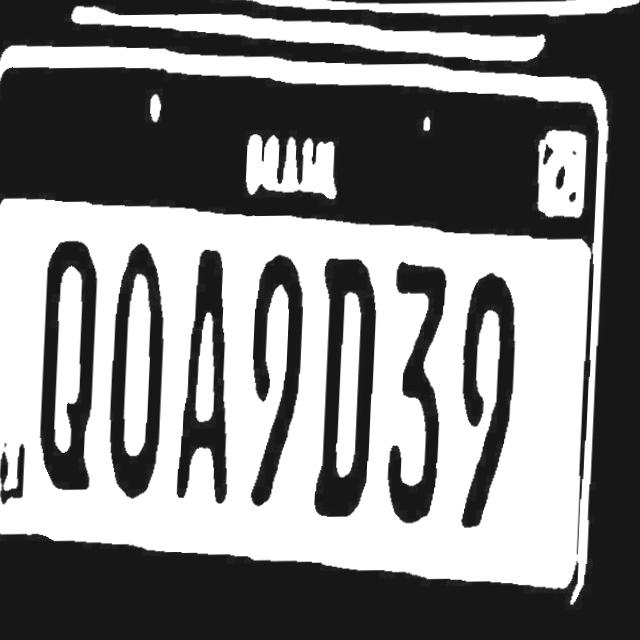3: (385, 261, 450, 527)
9: (452, 271, 525, 531), (245, 254, 311, 507)
a: (177, 249, 241, 502)
d: (316, 257, 385, 518)
o: (108, 240, 173, 500)
q: (31, 241, 105, 497)
